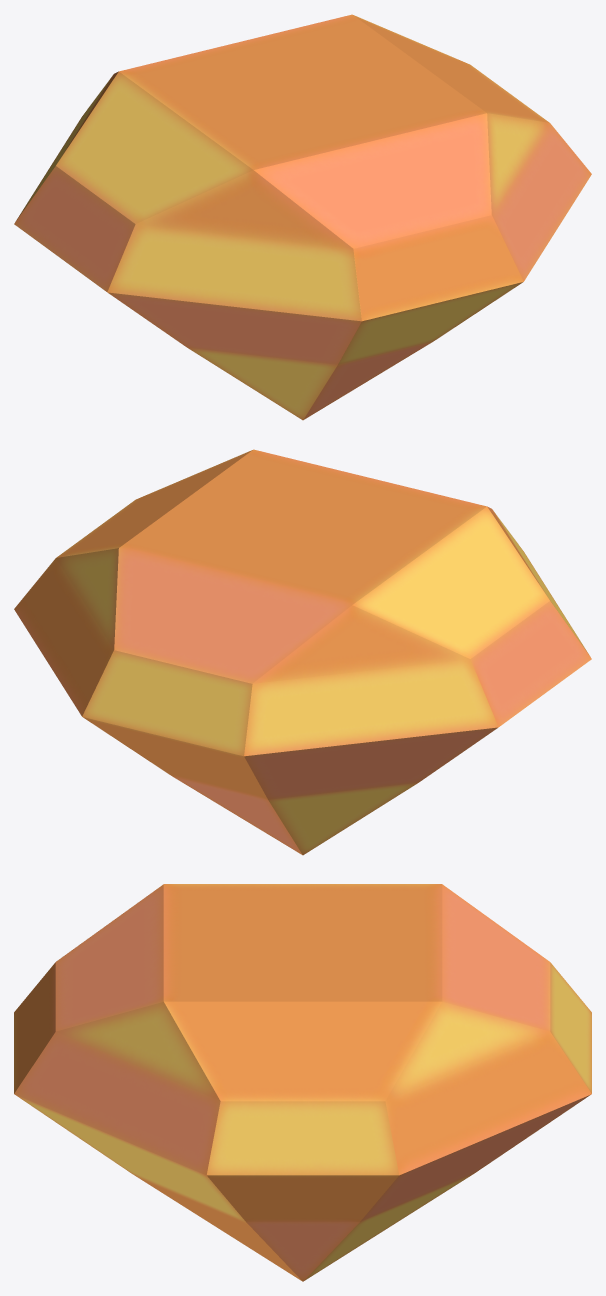
The model's file is pedra lapidada laranja.fbx.
The picture shows the model from 3 angles, top to bottom: view 1: azimuth 30°, elevation 25°; view 2: azimuth 150°, elevation 25°; view 3: azimuth 270°, elevation 25°; orthographic projection. The views are drawn at different scales.
Visible parts, largest first — view 1: Cube.001; view 2: Cube.001; view 3: Cube.001.
Boxes of the visible parts, x1=… form: Cube.001: x1=14, y1=14, x2=591, y2=420; Cube.001: x1=14, y1=449, x2=591, y2=855; Cube.001: x1=14, y1=884, x2=591, y2=1281.
Bounding box in the file's own units: 200 × 130 × 200.
